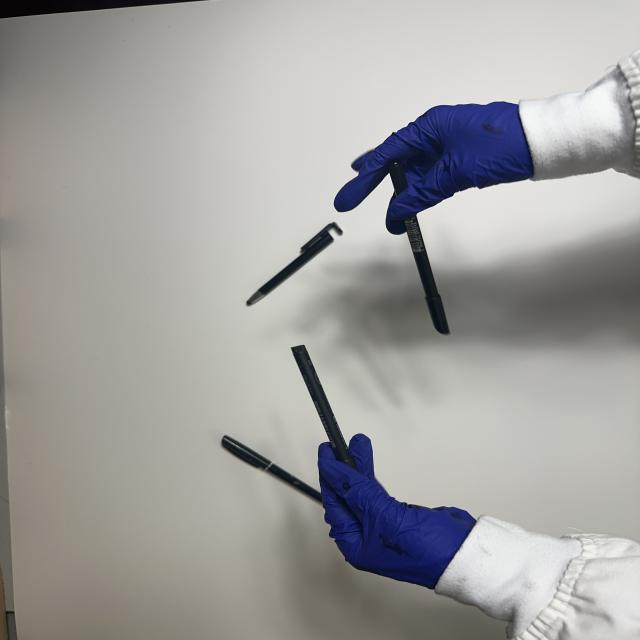gloves_contaminated: (334, 103, 534, 235), (319, 434, 476, 588)
